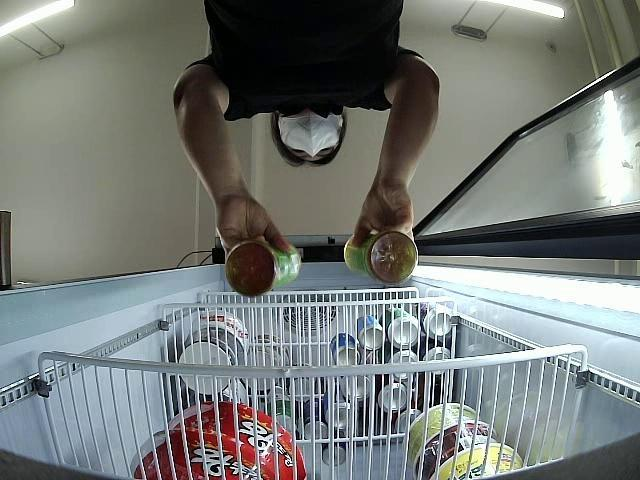19_17cha: (224, 239, 302, 297), (343, 232, 417, 284)
